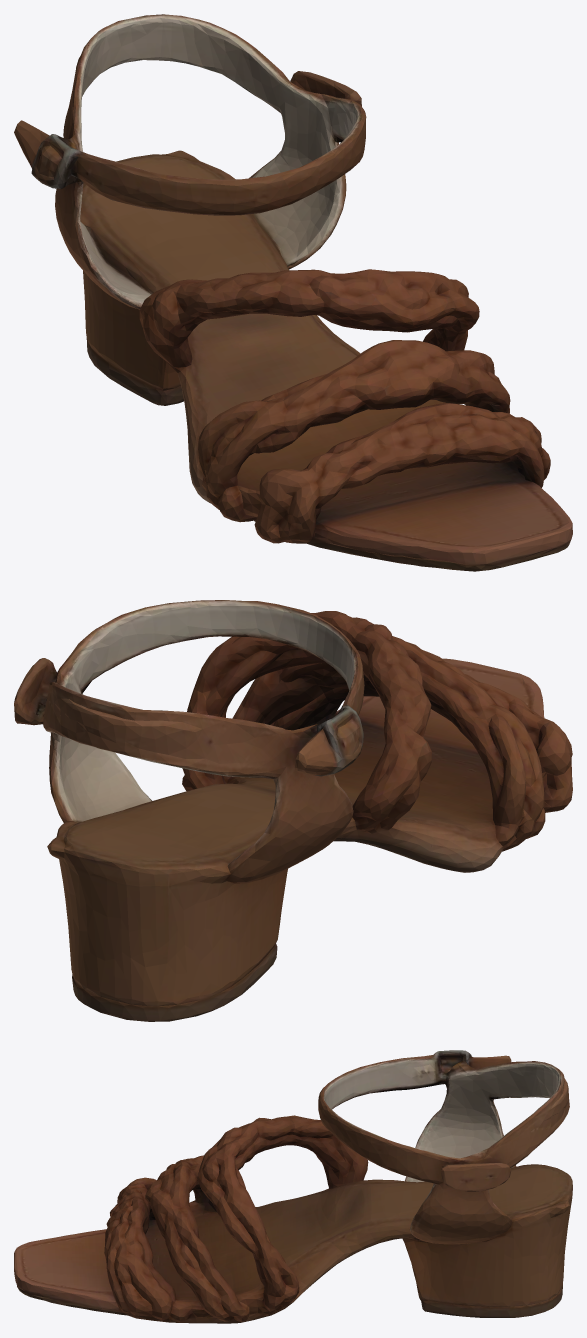
3 views of the same model, one above another, from view 1: azimuth 30°, elevation 25°; view 2: azimuth 150°, elevation 25°; view 3: azimuth 270°, elevation 25° (orthographic). The views are drawn at different scales.
Visible parts, largest first — view 1: world; view 2: world; view 3: world.
Boxes of the visible parts, left/top/right/bottom form: world: left=14, top=14, right=572, bottom=571; world: left=14, top=600, right=572, bottom=1021; world: left=14, top=1050, right=572, bottom=1323.
Bounding box in the file's own units: 0.4764 × 0.4308 × 1.
Materials: 1 (1 with a texture image).
